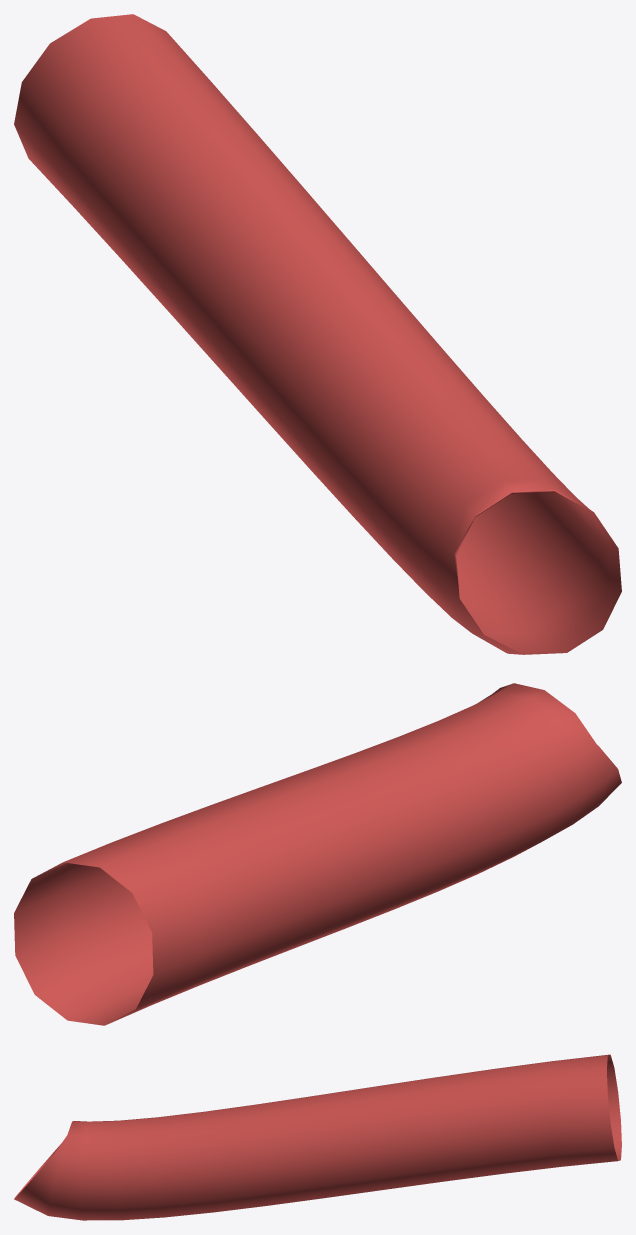
The picture shows the model from 3 angles, top to bottom: view 1: azimuth 30°, elevation 25°; view 2: azimuth 150°, elevation 25°; view 3: azimuth 270°, elevation 25°; orthographic projection. The views are drawn at different scales.
Parts seen in each view (by area): view 1: 右侧甲状颈干; view 2: 右侧甲状颈干; view 3: 右侧甲状颈干.
Part boxes in pixels (x1,y1,x2,y2): 右侧甲状颈干: [14, 14, 621, 654]; 右侧甲状颈干: [14, 683, 621, 1025]; 右侧甲状颈干: [14, 1054, 621, 1220].
Bounding box in the file's own units: 0.00387 × 0.00545 × 0.0179.
